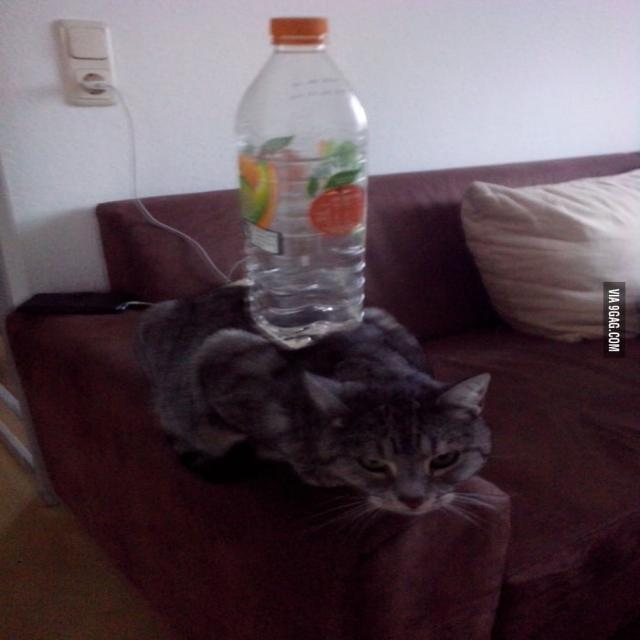plastic: (205, 10, 398, 358)
